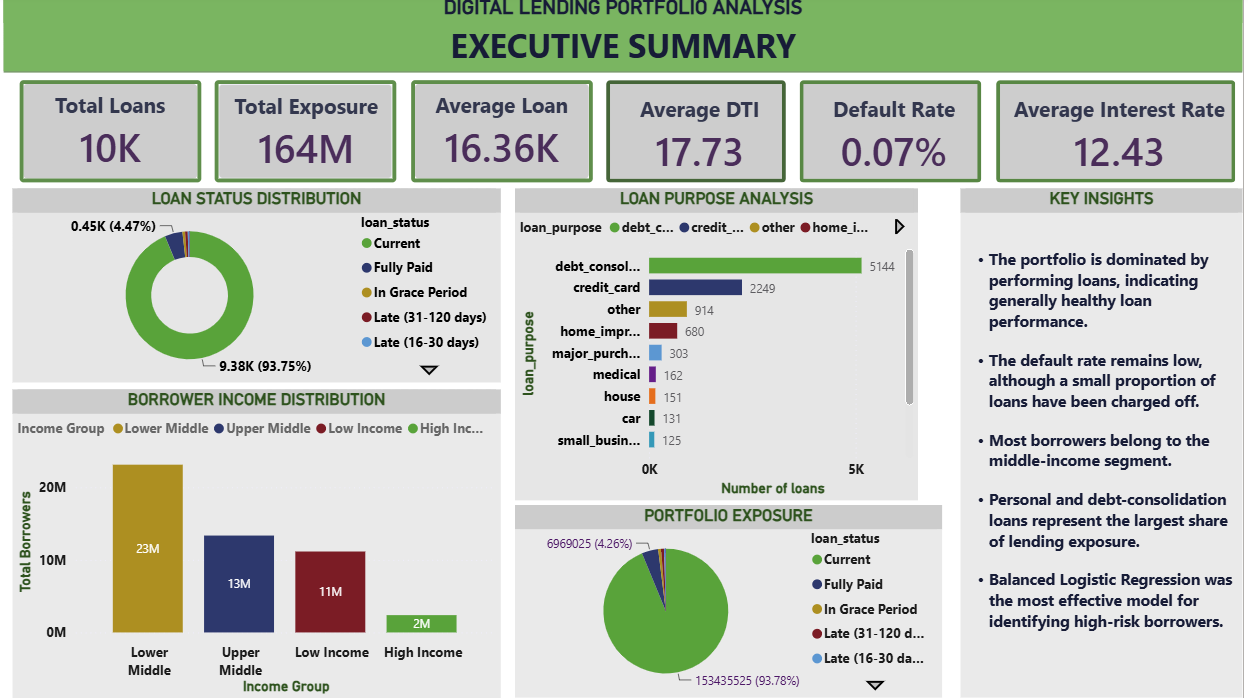

Layout of this report page (visuals, bound fields, positions):
{"tool":"powerbi","page":{"name":"EXECUTIVE SUMMARY","canvas":[1280,720],"ordinal":0},"visuals":[{"type":"textbox","box":[10,0,280,280],"z":0},{"type":"textbox","box":[10,290,280,280],"z":1000},{"type":"cardVisual","fields":{"Data":["CLEAN_DATASET.Total Loans"]},"box":[19.9,79.5,200.3,119.2],"z":3000},{"type":"cardVisual","fields":{"Data":["CLEAN_DATASET.Total Exposure"]},"box":[220.1,79.5,200.3,119.2],"z":4000},{"type":"cardVisual","fields":{"Data":["CLEAN_DATASET.Average Loan"]},"box":[420.4,79.5,200.3,119.2],"z":5000},{"type":"cardVisual","fields":{"Data":["CLEAN_DATASET.Default Rate"]},"box":[819.4,79.5,200.3,119.2],"z":7000},{"type":"cardVisual","fields":{"Data":["CLEAN_DATASET.Average Interest Rate"]},"box":[1019.6,79.5,259.9,119.2],"z":8000},{"type":"donutChart","title":"LOAN STATUS DISTRIBUTION","fields":{"Category":["CLEAN_DATASET.loan_status"],"Y":["CountNonNull(CLEAN_DATASET.id)"]},"box":[19.9,198.7,499.9,198.7],"z":9000},{"type":"pieChart","title":"PORTFOLIO EXPOSURE","fields":{"Category":["CLEAN_DATASET.loan_status"],"Y":["Sum(CLEAN_DATASET.loan_amount)"]},"box":[535,522.8,437.2,197.2],"z":10000},{"type":"cardVisual","fields":{"Data":["CLEAN_DATASET.Average DTI"]},"box":[620.6,79.5,198.7,119.2],"z":13001},{"type":"barChart","title":"LOAN PURPOSE ANALYSIS","fields":{"Category":["CLEAN_DATASET.loan_purpose"],"Y":["CountNonNull(CLEAN_DATASET.id)"],"Series":["CLEAN_DATASET.loan_purpose"]},"box":[535,198.7,412.7,319.5],"z":13002},{"type":"columnChart","title":"BORROWER INCOME DISTRIBUTION","fields":{"Category":["CLEAN_DATASET.Income Group"],"Y":["Sum(CLEAN_DATASET.id)"],"Series":["CLEAN_DATASET.Income Group"]},"box":[19.9,403.6,499.9,316.4],"z":13003},{"type":"textbox","title":"KEY INSIGHTS","box":[990.6,198.7,288.9,521.3],"z":13004},{"type":"shape","title":"DIGITAL LENDING PORTFOLIO ANALYSIS","box":[10.7,0,1268.8,79.5],"z":13005}]}

Visuals, with their boxes in screenshot pixels (x1, y1, x2, y2), scaled from the page's 1280x720 canvas onto the 1248x698 screenshot:
textbox: 10 0 283 271
textbox: 10 281 283 553
cardVisual - CLEAN_DATASET.Total Loans: 19 77 215 193
cardVisual - CLEAN_DATASET.Total Exposure: 215 77 410 193
cardVisual - CLEAN_DATASET.Average Loan: 410 77 605 193
cardVisual - CLEAN_DATASET.Default Rate: 799 77 994 193
cardVisual - CLEAN_DATASET.Average Interest Rate: 994 77 1247 193
"LOAN STATUS DISTRIBUTION" donutChart: 19 193 507 385
"PORTFOLIO EXPOSURE" pieChart: 522 507 948 697
cardVisual - CLEAN_DATASET.Average DTI: 605 77 799 193
"LOAN PURPOSE ANALYSIS" barChart: 522 193 924 502
"BORROWER INCOME DISTRIBUTION" columnChart: 19 391 507 697
"KEY INSIGHTS" textbox: 966 193 1247 697
"DIGITAL LENDING PORTFOLIO ANALYSIS" shape: 10 0 1247 77
